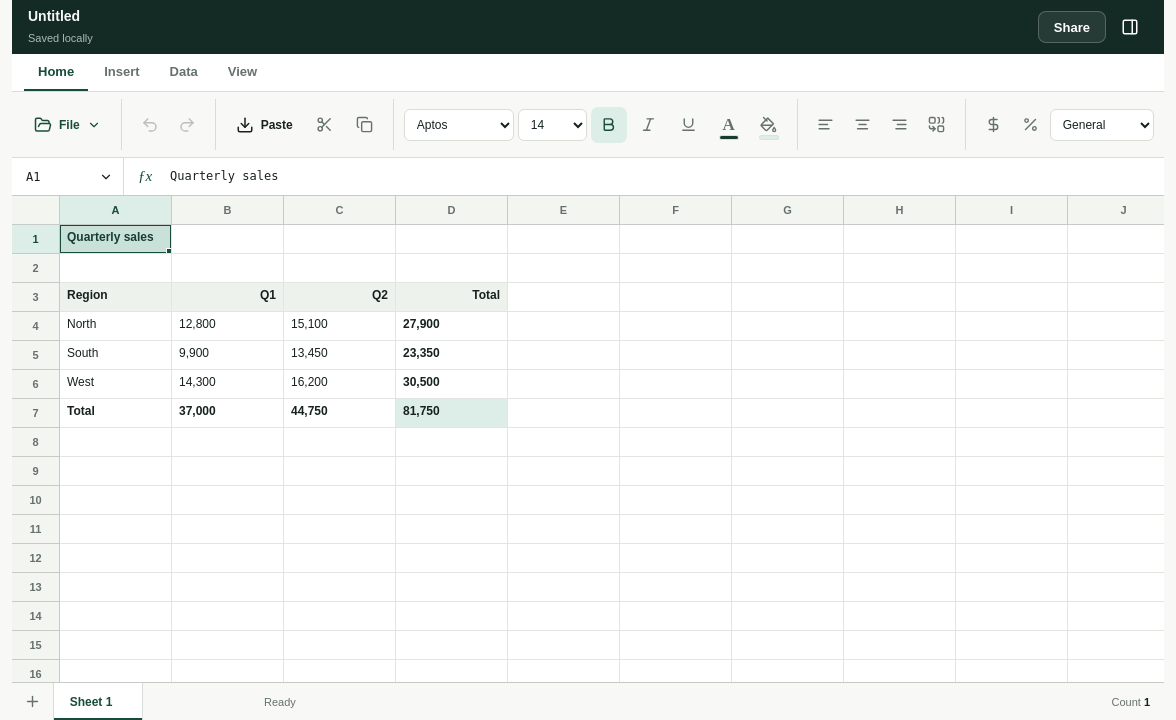
Gridstone interactions › adds and switches to a new worksheet
Click the button named "Add worksheet": [33, 702] box [12,683,54,719]
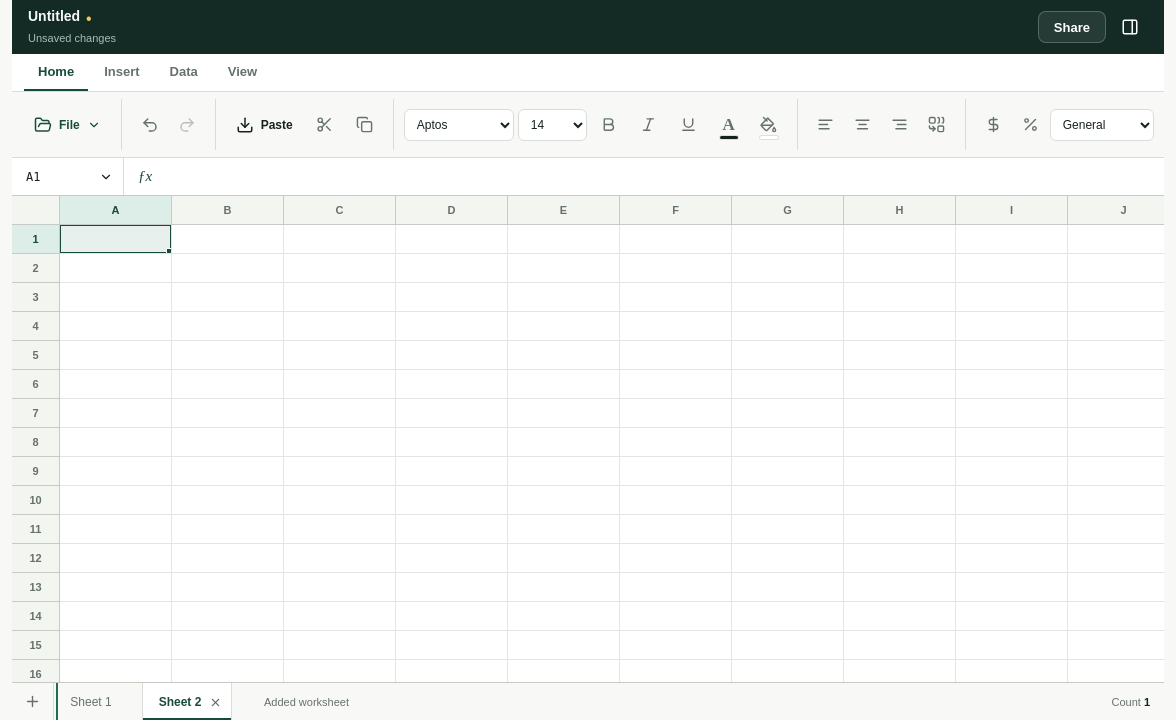
Now the button "Sheet 2" is shown, box [143,683,231,719]
Now the table named "Sheet 2 spreadsheet" is shown
